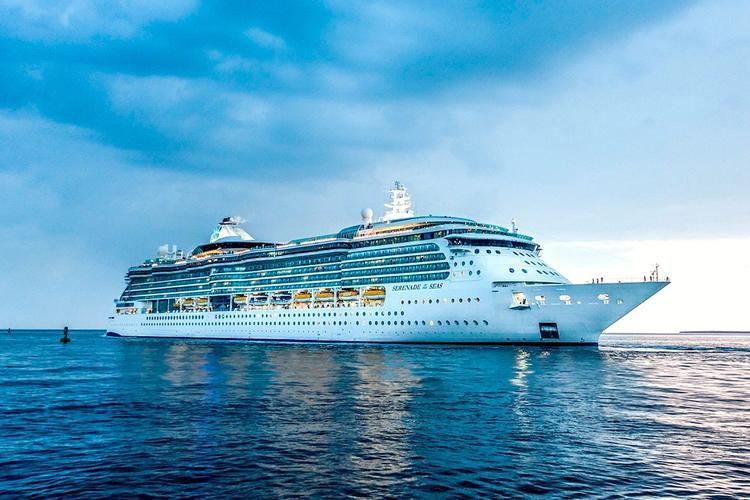Ship: (98, 190, 677, 349)
